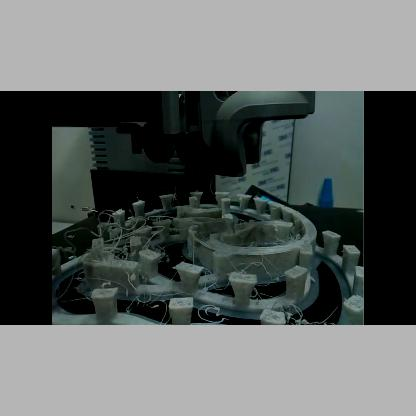fail: (57, 215, 175, 313), (222, 230, 302, 249), (287, 304, 339, 324), (203, 263, 234, 290), (196, 303, 230, 323)
